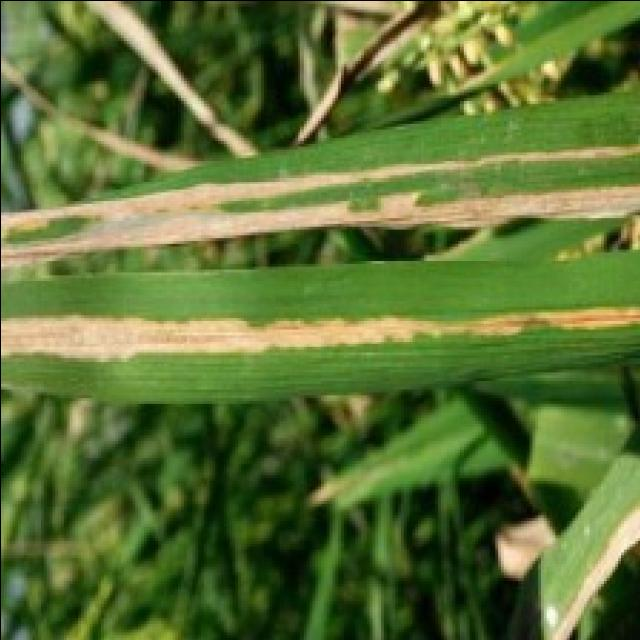Unhealthy: (0, 144, 640, 268), (0, 305, 640, 363), (549, 499, 640, 640)
